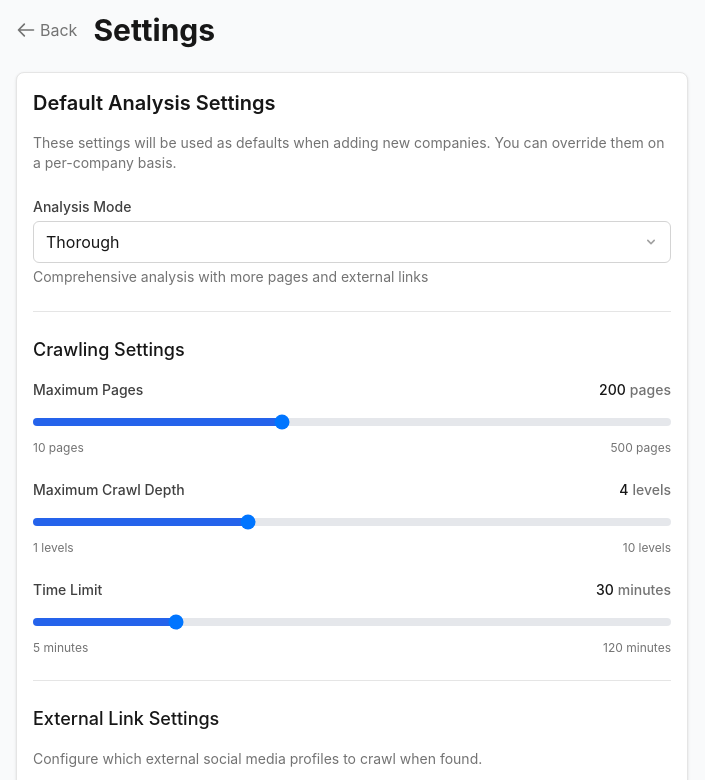
Test case: TestModePresets (UI-08) › Thorough mode sets comprehensive configuration
This screenshot has width=705, height=780.
First select quick, then thorough to test mode change
Select "Quick" in the dropdown labelled "Analysis Mode". click: (352, 242)
box: left=33, top=221, right=671, bottom=263
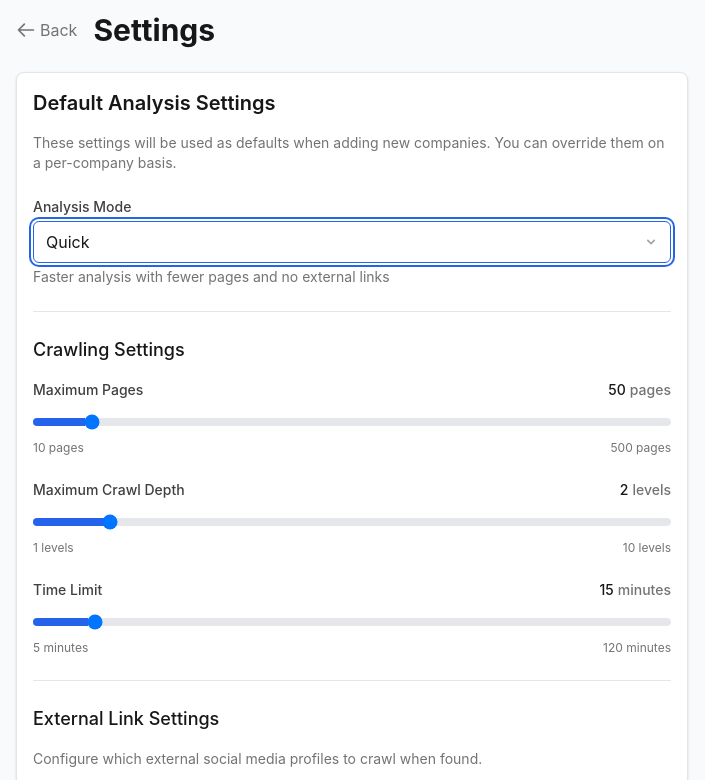
Select "Thorough" in the dropdown labelled "Analysis Mode". click: (352, 242)
box: left=33, top=221, right=671, bottom=263
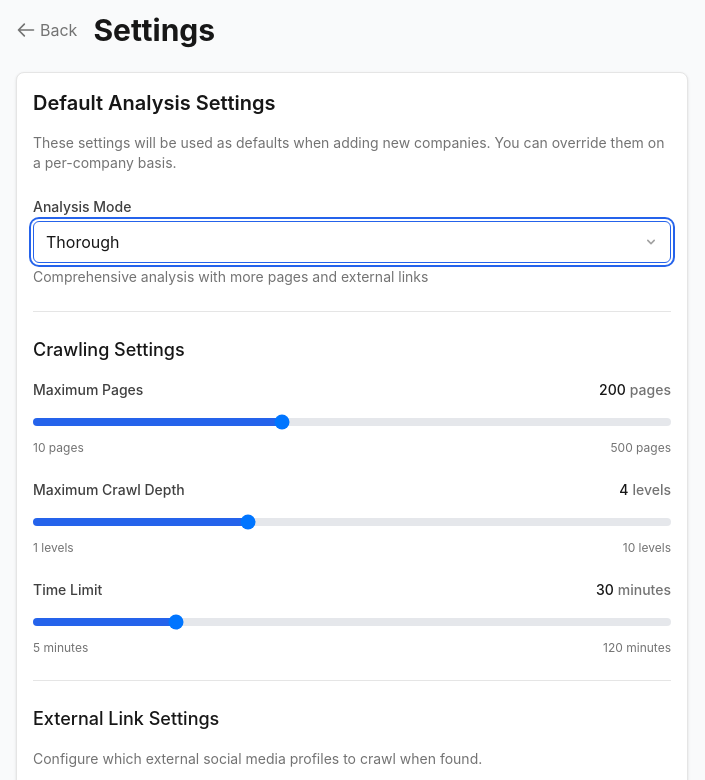
Expected: the slider labelled "Maximum Pages" holds "200", left=33, top=418, right=671, bottom=426
Expected: the slider labelled "Maximum Crawl Depth" holds "4", left=33, top=518, right=671, bottom=526
